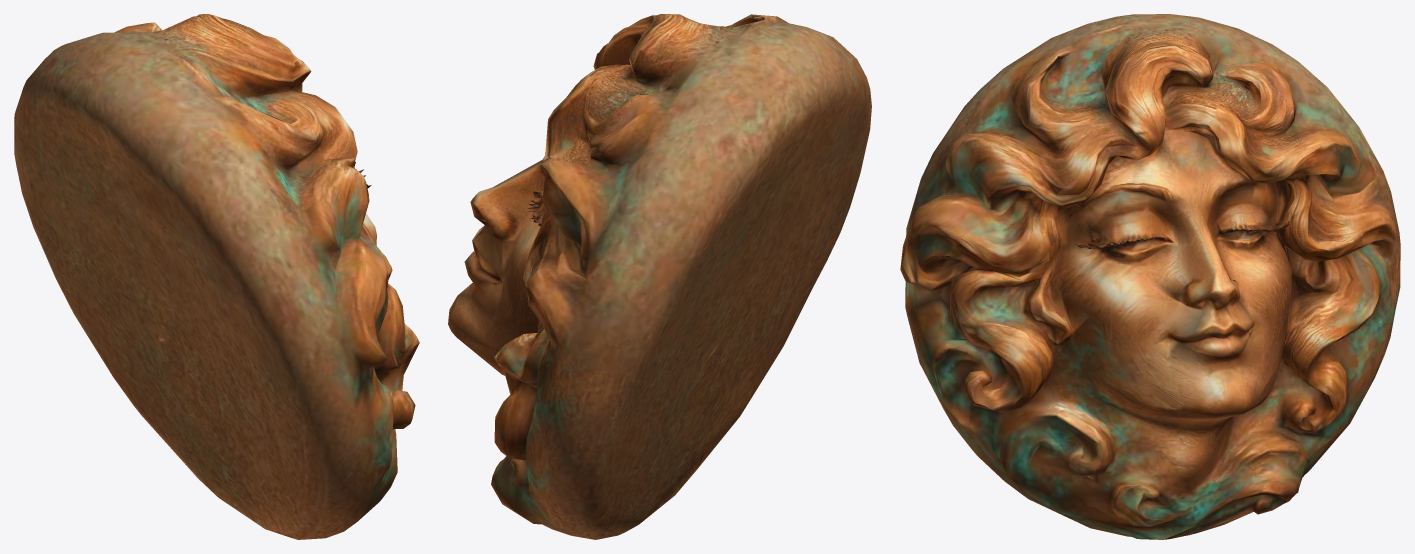
Rendered from C-venus.glb.
3 views of the same model, side by side, from view 1: azimuth 30°, elevation 25°; view 2: azimuth 150°, elevation 25°; view 3: azimuth 270°, elevation 25° (orthographic). The views are drawn at different scales.
Parts seen in each view (by area): view 1: tripo_node_1baa224a-6e99-4ebf-8c77-47fd50f7312d; view 2: tripo_node_1baa224a-6e99-4ebf-8c77-47fd50f7312d; view 3: tripo_node_1baa224a-6e99-4ebf-8c77-47fd50f7312d.
Boxes of the visible parts, x1,y1,x2,y2 form: tripo_node_1baa224a-6e99-4ebf-8c77-47fd50f7312d: (14,14,419,539); tripo_node_1baa224a-6e99-4ebf-8c77-47fd50f7312d: (448,14,871,539); tripo_node_1baa224a-6e99-4ebf-8c77-47fd50f7312d: (900,14,1400,539).
Bounding box in the file's own units: 0.6334 × 0.9772 × 0.9546.
1 material, 1 textured.
